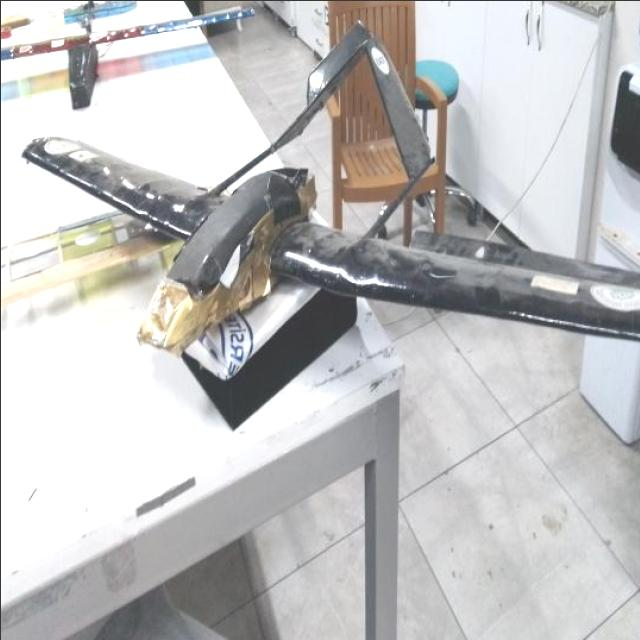plane: (10, 10, 640, 393), (0, 0, 258, 114)
